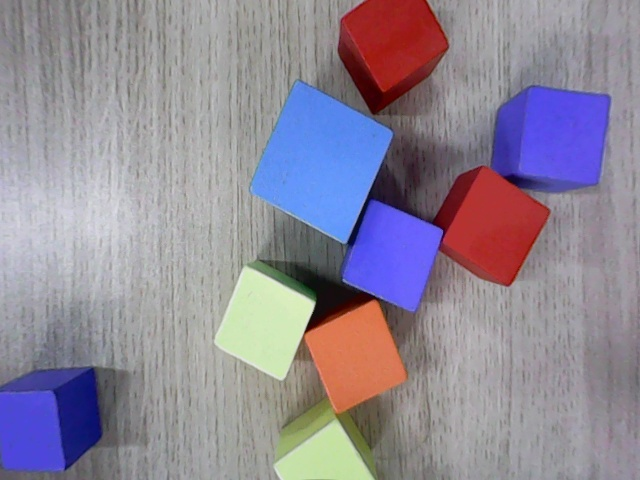upside of big cube: (247, 79, 396, 245)
upside of small cube: (441, 166, 553, 287), (212, 265, 319, 383), (303, 298, 409, 417), (340, 198, 444, 314), (338, 0, 450, 93), (518, 86, 611, 187), (273, 417, 378, 479), (0, 390, 65, 471)
